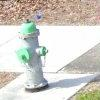a fire hydrant: (14, 18, 51, 92)
